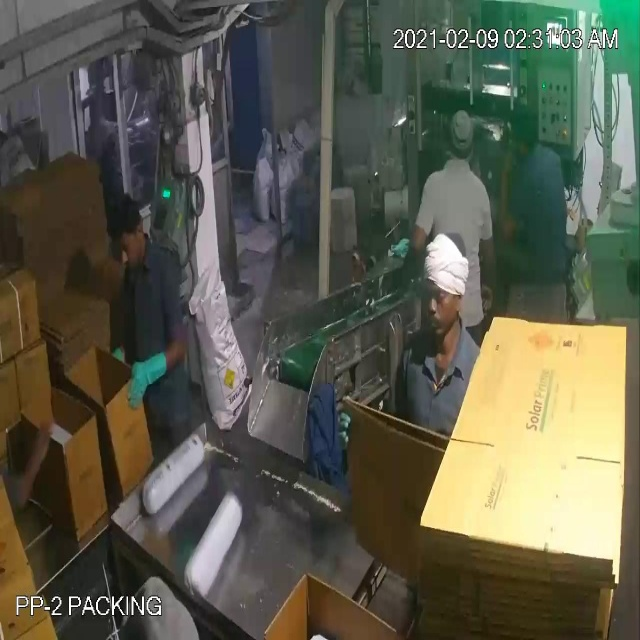Guantes: (120, 345, 175, 411)
Sin_guantes: (5, 398, 58, 524), (496, 142, 527, 248)
